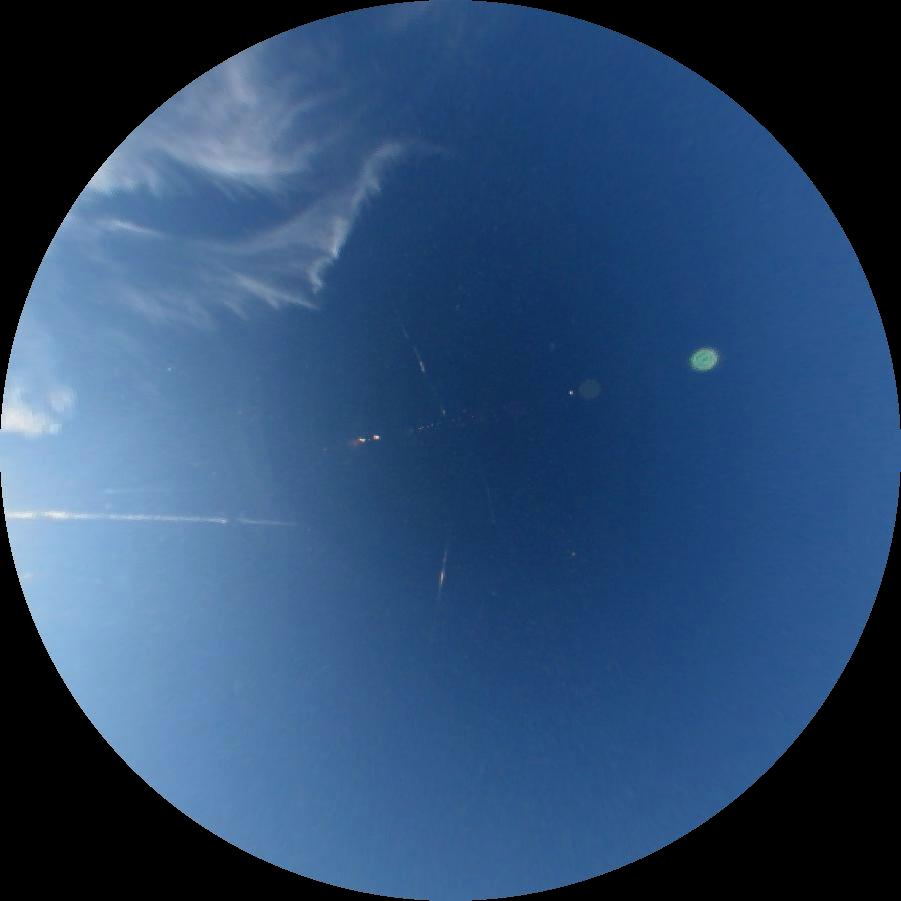parasite: (382, 282, 453, 420), (4, 511, 297, 528), (436, 523, 451, 598), (480, 481, 496, 528)
unknow: (105, 488, 154, 493)
